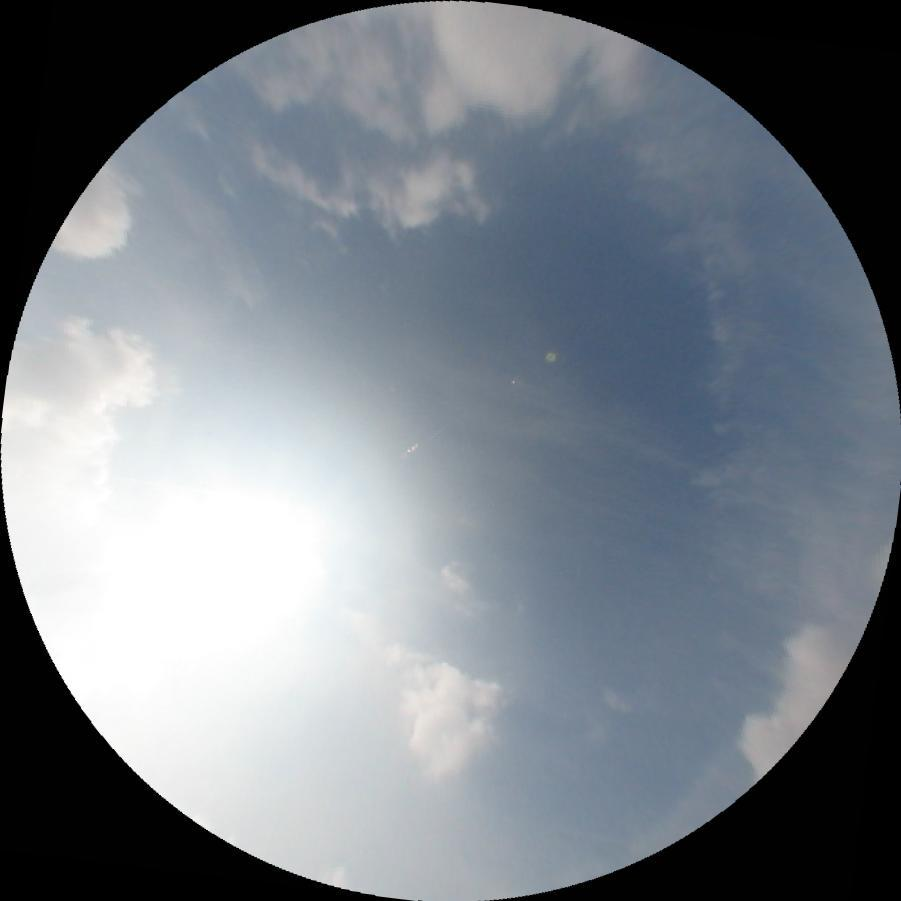sun: (114, 470, 336, 660)
